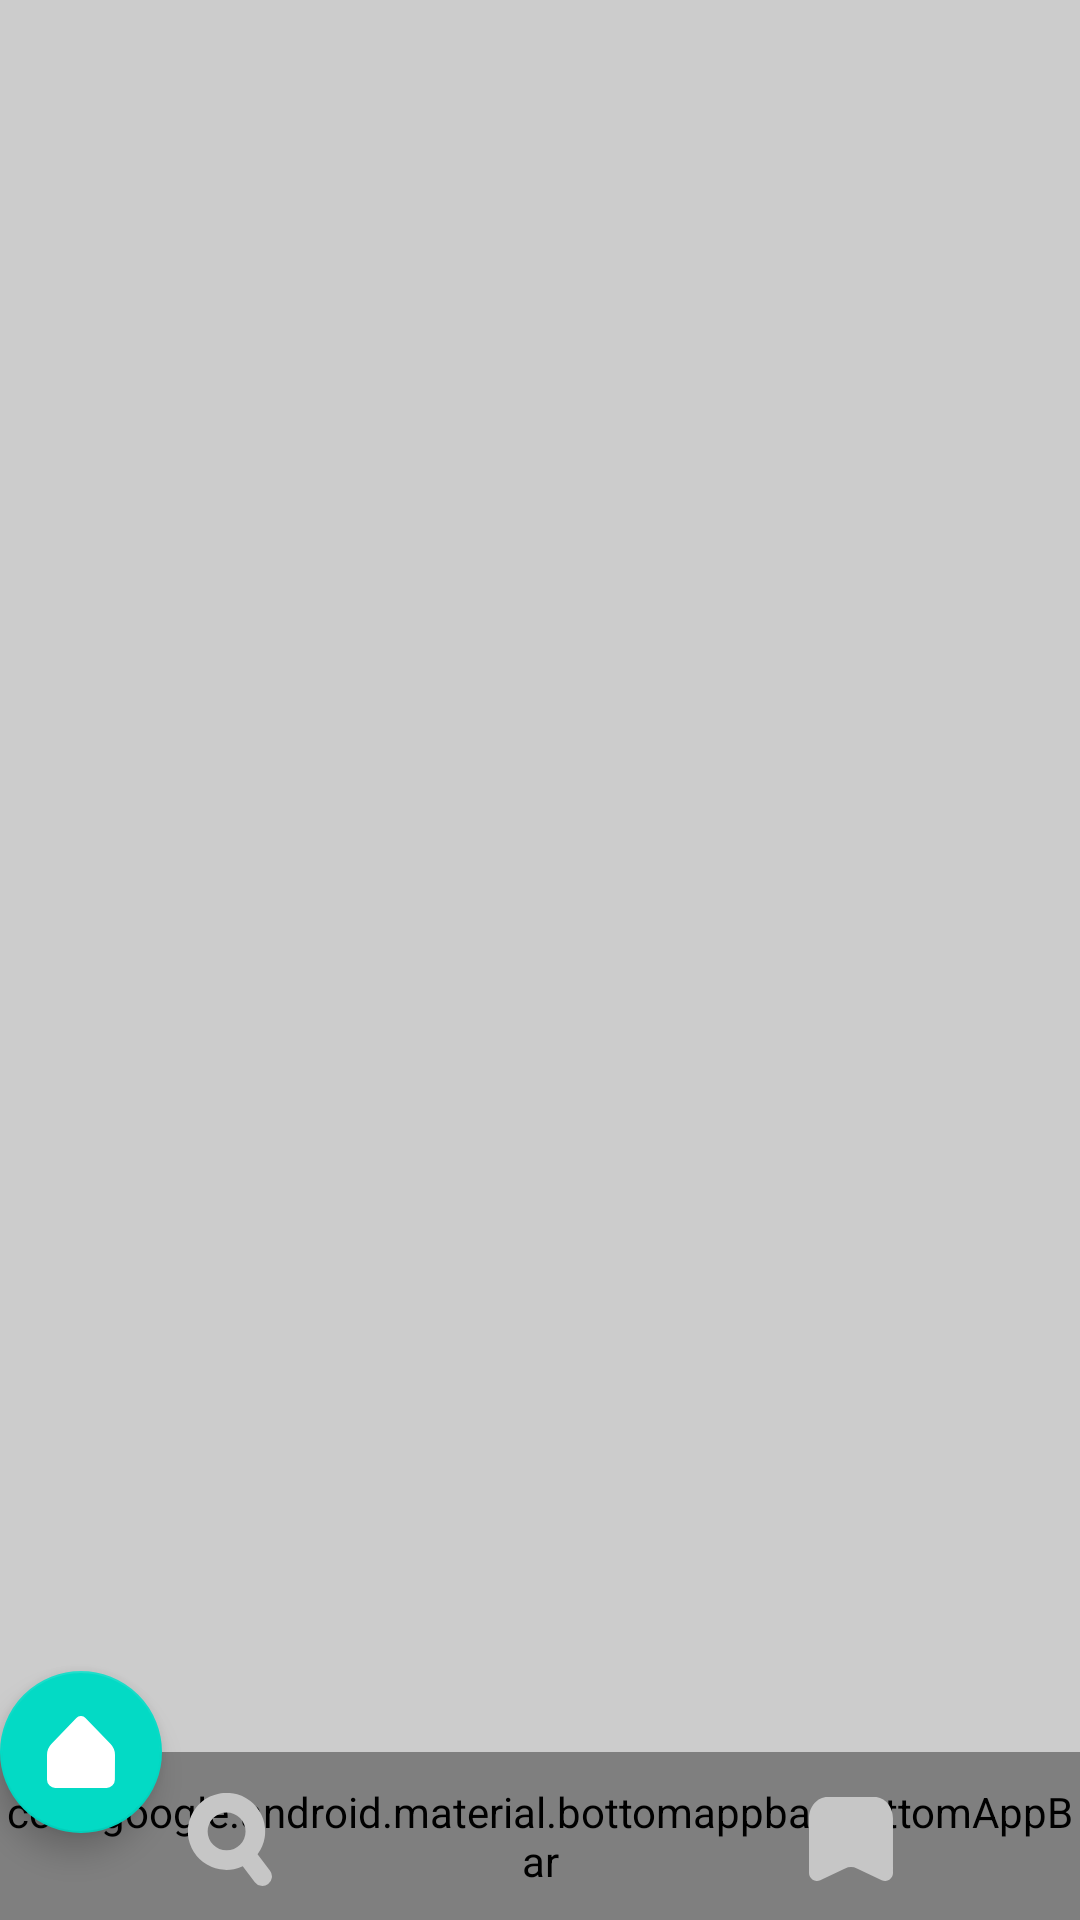

Icons on this 1080 x 1920 Android screen, each with the point to tap as (x,y):
home: (81,1752)
search: (230,1839)
